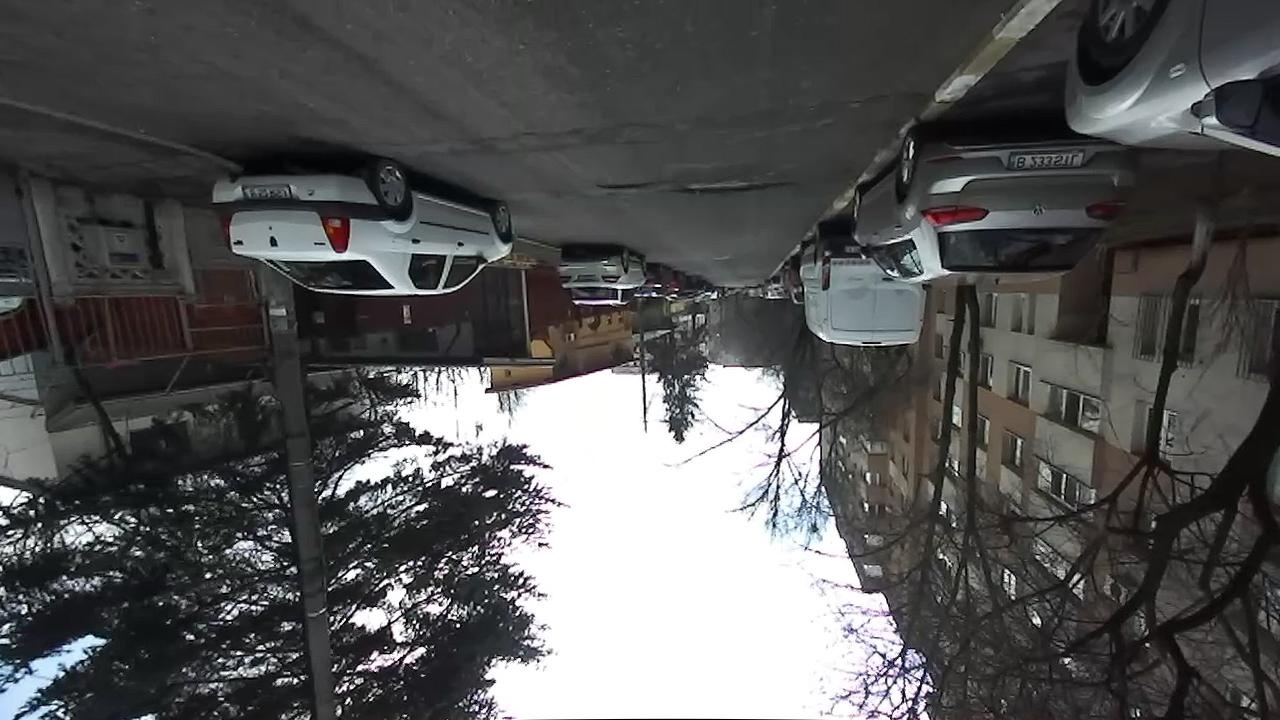pothole: (669, 174, 797, 195), (594, 179, 658, 193)
